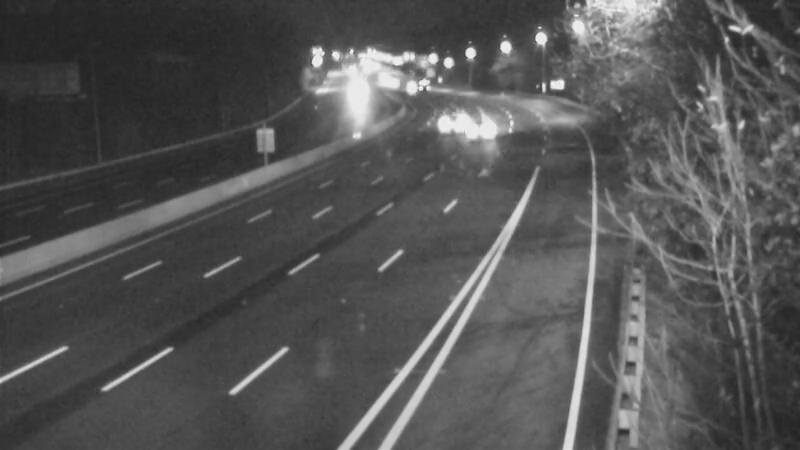vehicle: (397, 60, 447, 110), (385, 61, 435, 111), (422, 92, 472, 142), (453, 106, 503, 156), (330, 70, 380, 120)
